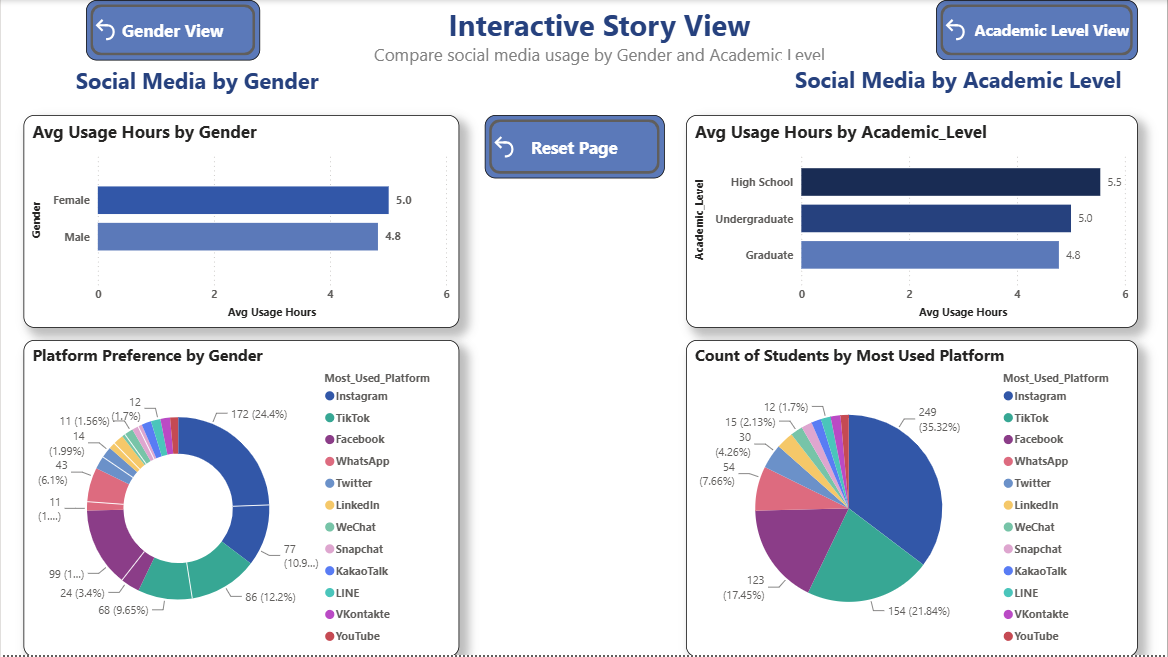

Layout of this report page (visuals, bound fields, positions):
{"tool":"powerbi","page":{"name":" Interactive Story View ","canvas":[1280,720],"ordinal":4},"visuals":[{"type":"barChart","fields":{"Category":["Student Details.Gender"],"Y":["_Measures.Avg Usage Hours"]},"box":[25,126.7,478.3,233.8],"z":0},{"type":"donutChart","title":"Platform Preference by Gender","fields":{"Category":["Platform Details.Most_Used_Platform"],"Y":["CountNonNull(Platform Details.Student_ID)"],"Series":["Student Details.Gender"]},"box":[25,373,478.3,348],"z":1000},{"type":"barChart","fields":{"Category":["Student Details.Academic_Level"],"Y":["_Measures.Avg Usage Hours"]},"box":[751.4,126.7,496.2,233.8],"z":2000},{"type":"pieChart","title":"Count of Students by Most Used Platform","fields":{"Category":["Platform Details.Most_Used_Platform"],"Y":["CountNonNull(Platform Details.Student_ID)"]},"box":[751.4,373,496.2,348],"z":3000},{"type":"actionButton","box":[92.8,0,191,66],"z":4000},{"type":"actionButton","box":[1026.2,0,221.3,66],"z":5000},{"type":"textbox","box":[338.1,0,639.1,96.4],"z":6000},{"type":"textbox","box":[25.2,66.7,381.1,47.5],"z":7000},{"type":"textbox","box":[853.1,66,394.4,48.2],"z":8000},{"type":"actionButton","box":[530.9,126,197.2,69.7],"z":9000}]}

Visuals, with their boxes in screenshot pixels (x1, y1, x2, y2), scaled from the page's 1280x720 canvas onto the 1168x657 screenshot:
barChart - Student Details.Gender x _Measures.Avg Usage Hours: rect(23, 116, 459, 329)
"Platform Preference by Gender" donutChart: rect(23, 340, 459, 656)
barChart - Student Details.Academic_Level x _Measures.Avg Usage Hours: rect(686, 116, 1138, 329)
"Count of Students by Most Used Platform" pieChart: rect(686, 340, 1138, 656)
actionButton: rect(85, 0, 259, 60)
actionButton: rect(936, 0, 1138, 60)
textbox: rect(309, 0, 892, 88)
textbox: rect(23, 61, 371, 104)
textbox: rect(778, 60, 1138, 104)
actionButton: rect(484, 115, 664, 179)
